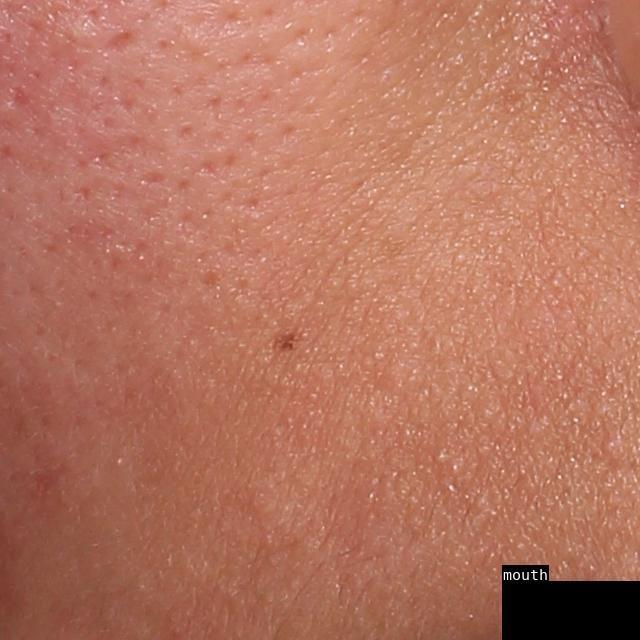atrophic_scar: (95, 26, 139, 56), (7, 86, 35, 113)
comedo: (434, 446, 449, 468)
nevus: (270, 336, 300, 352)
